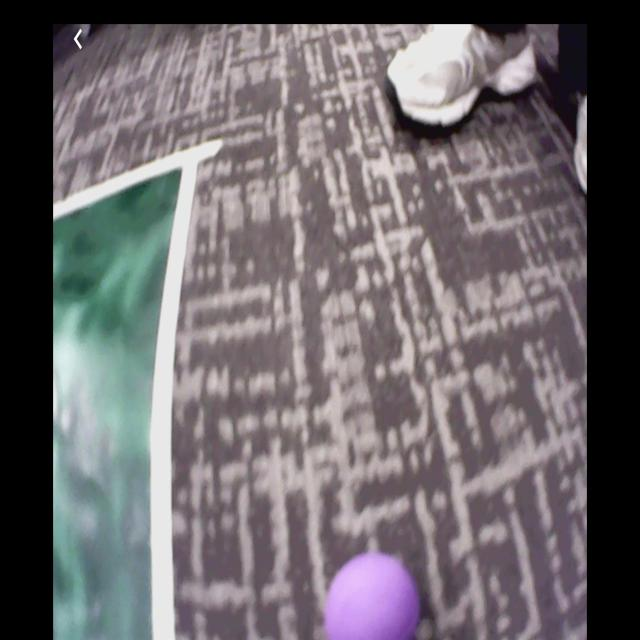ball: (324, 553, 418, 640)
